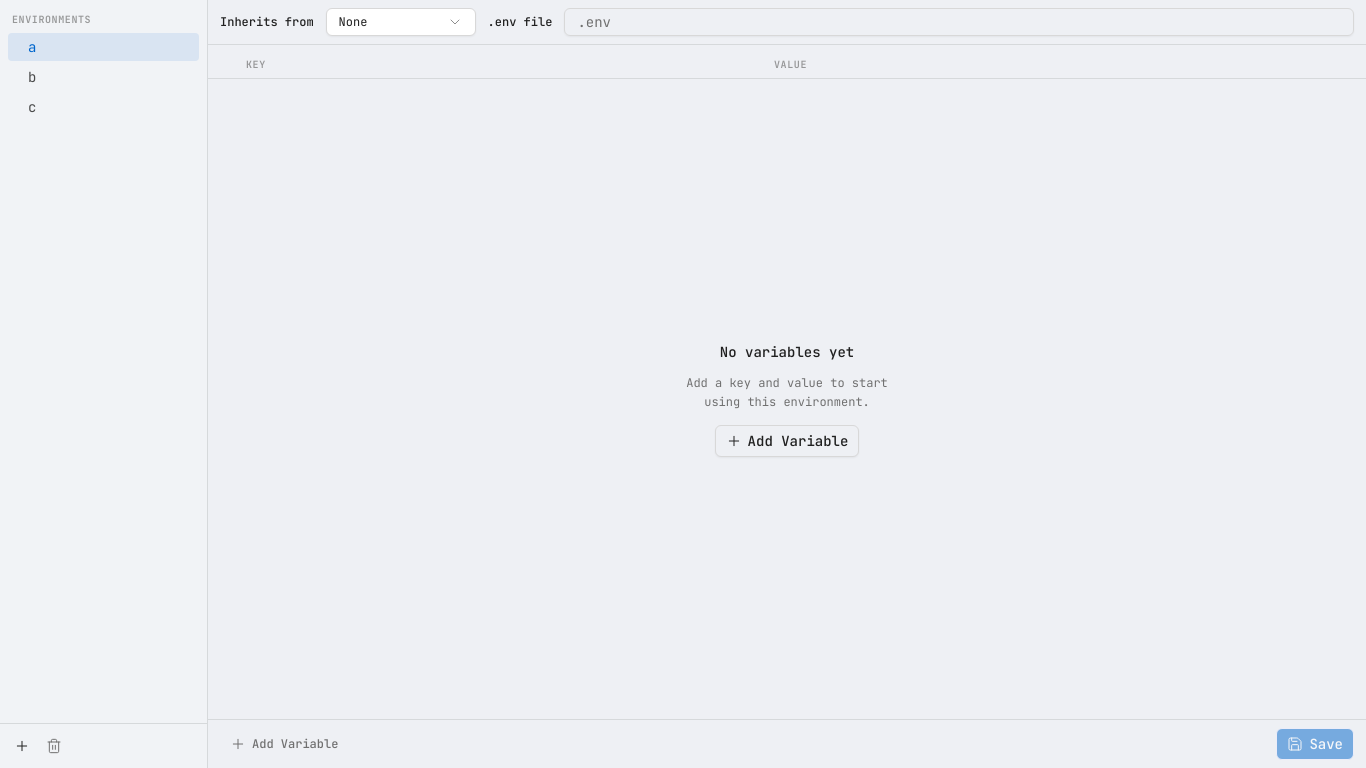
Test: WorkspaceEnvironmentsTab inheritance › a_global_environment_lists_only_global_environments_as_candidates
// "a" is selected first, so its descendant "b" and itself are excluded.
Step 1. Click the dropdown named "Inherits from" → (401, 22), box left=326, top=8, right=476, bottom=36
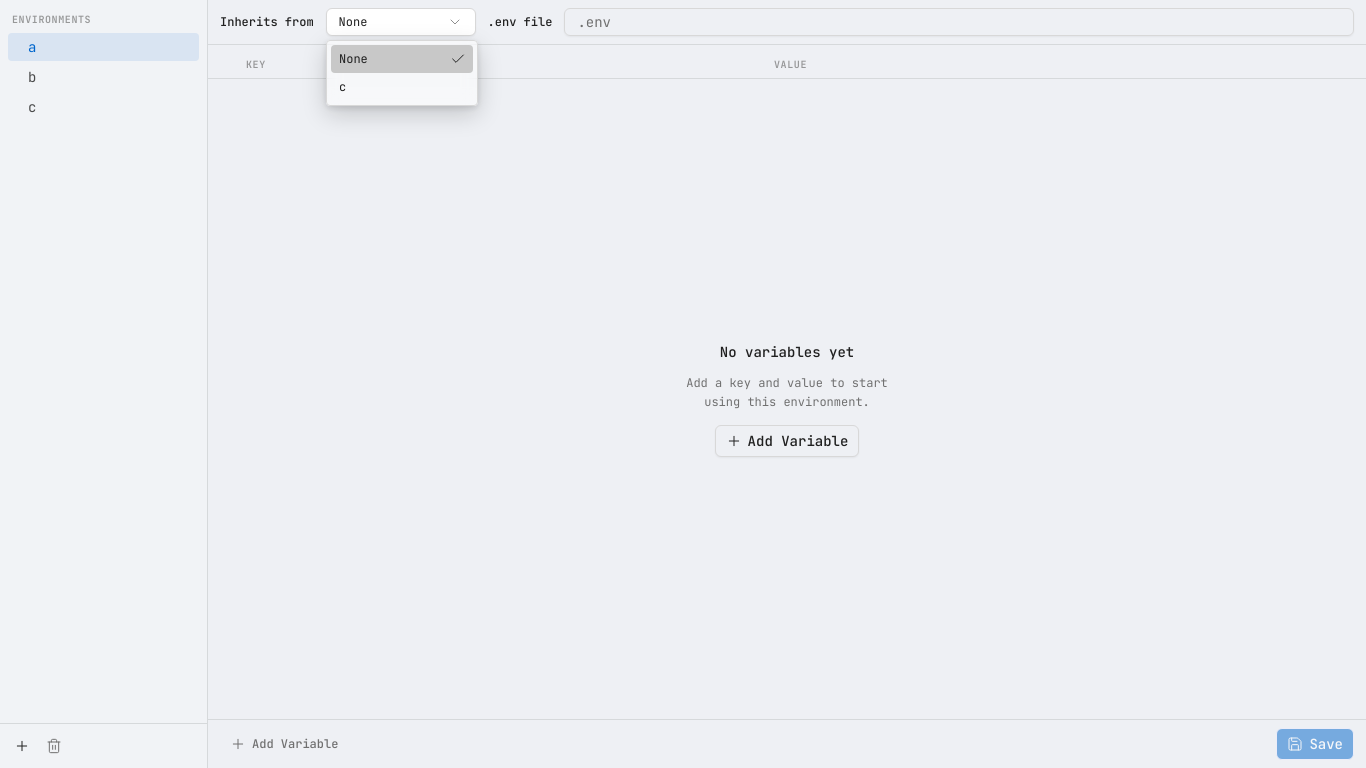
expect the option "c" is shown: met, box left=339, top=79, right=346, bottom=95
